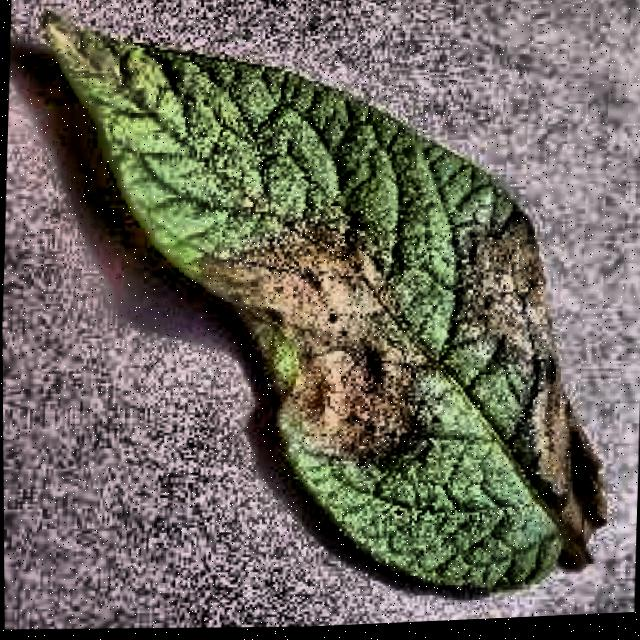Potato_leaf_late_blight: (33, 0, 639, 620)
